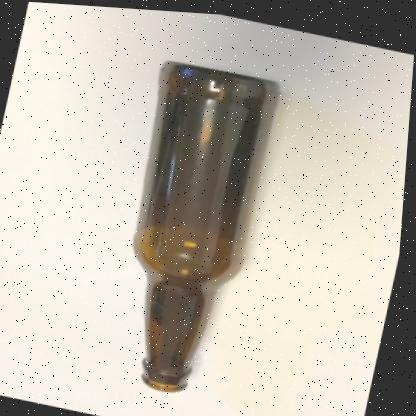Glass: (136, 57, 280, 389)
